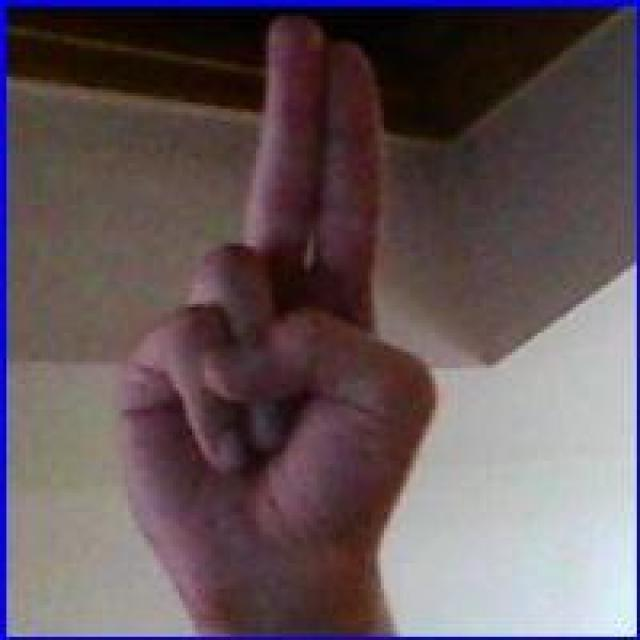U: (112, 10, 442, 592)
